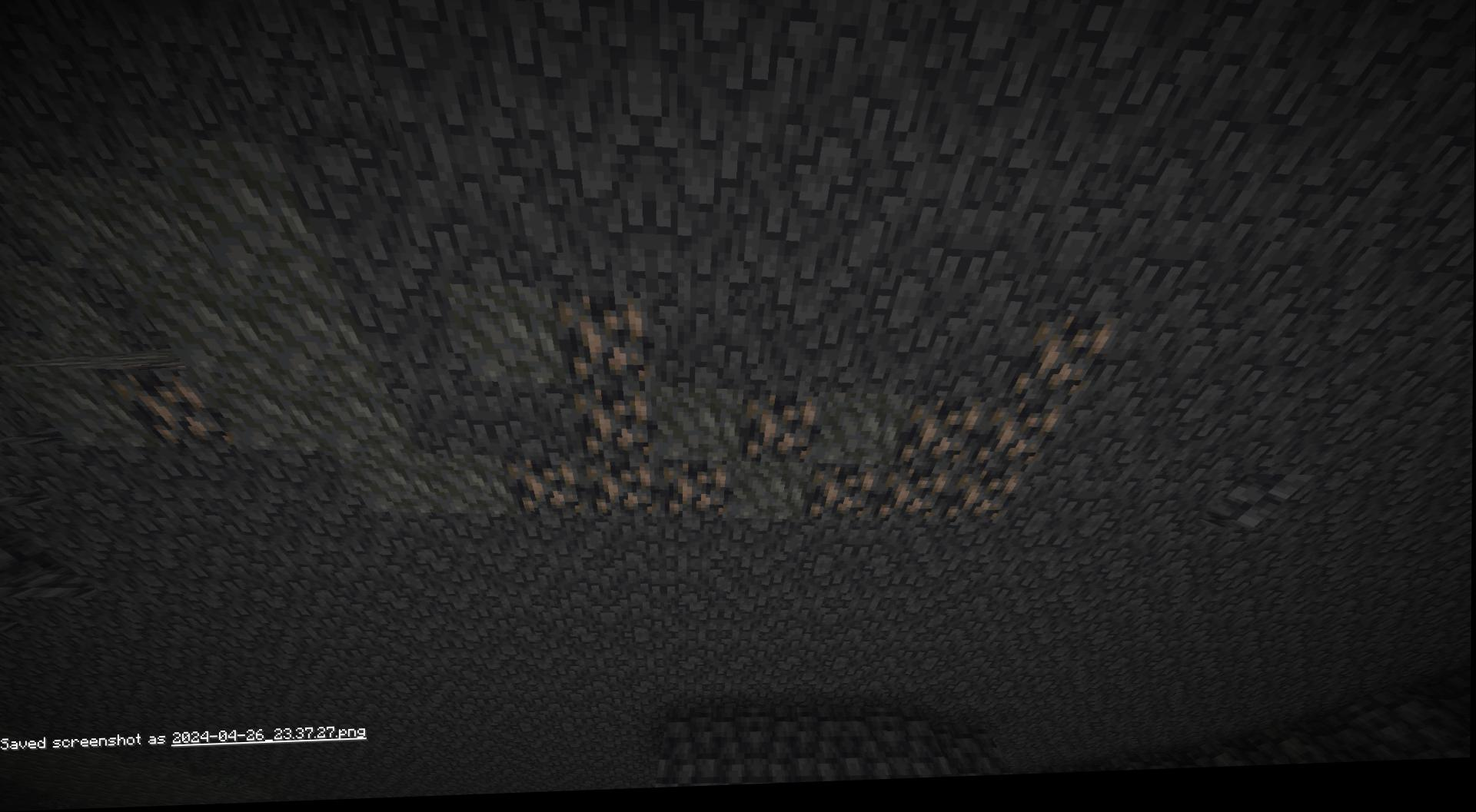iron ore: (114, 365, 231, 456), (557, 296, 648, 392), (1029, 321, 1112, 406), (572, 395, 658, 464), (898, 402, 976, 472), (749, 401, 818, 471), (581, 458, 654, 522), (982, 405, 1048, 474), (504, 459, 576, 521), (660, 459, 728, 518), (803, 471, 871, 527), (879, 475, 951, 526), (954, 476, 1018, 530)
